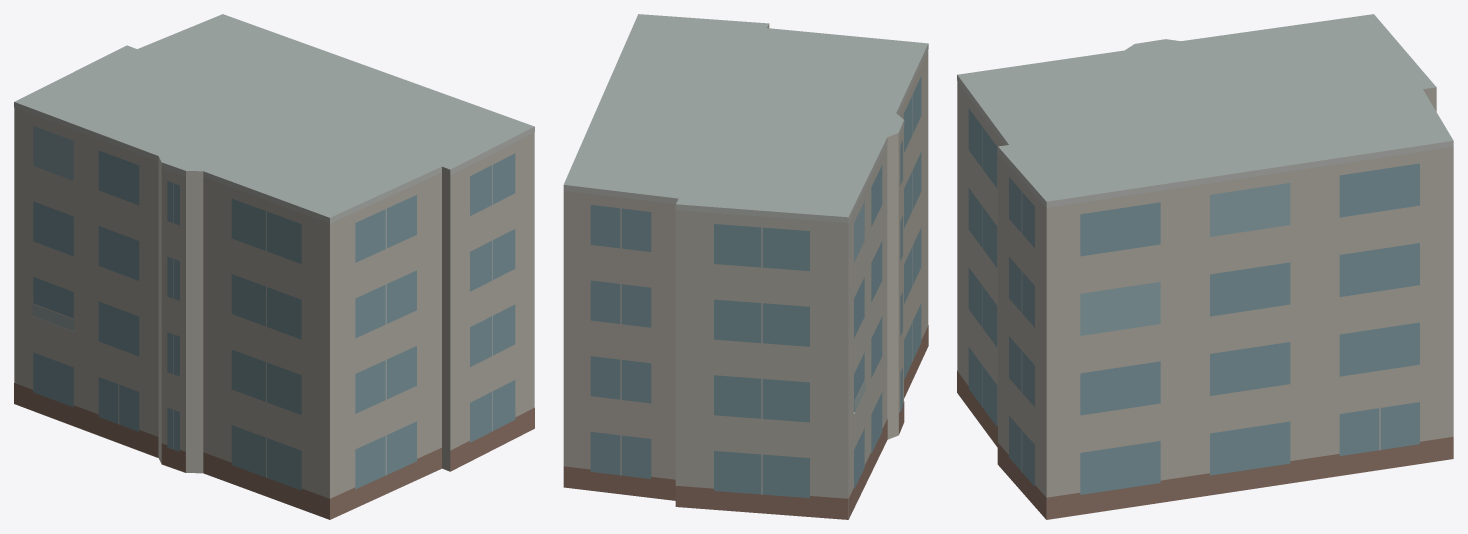
File: survey-upis-32823793.glb
3 renders of one model, left to right at view 1: azimuth 30°, elevation 25°; view 2: azimuth 150°, elevation 25°; view 3: azimuth 270°, elevation 25°, orthographic. The views are drawn at different scales.
Parts seen in each view (by area): view 1: survey-upis-32823793.tmp; view 2: survey-upis-32823793.tmp; view 3: survey-upis-32823793.tmp.
Boxes of the visible parts, x1,y1,x2,y2 form: survey-upis-32823793.tmp: [14, 14, 534, 519]; survey-upis-32823793.tmp: [563, 14, 928, 519]; survey-upis-32823793.tmp: [957, 14, 1453, 519].
Bounding box in the file's own units: 16.14 × 12.75 × 18.04.
